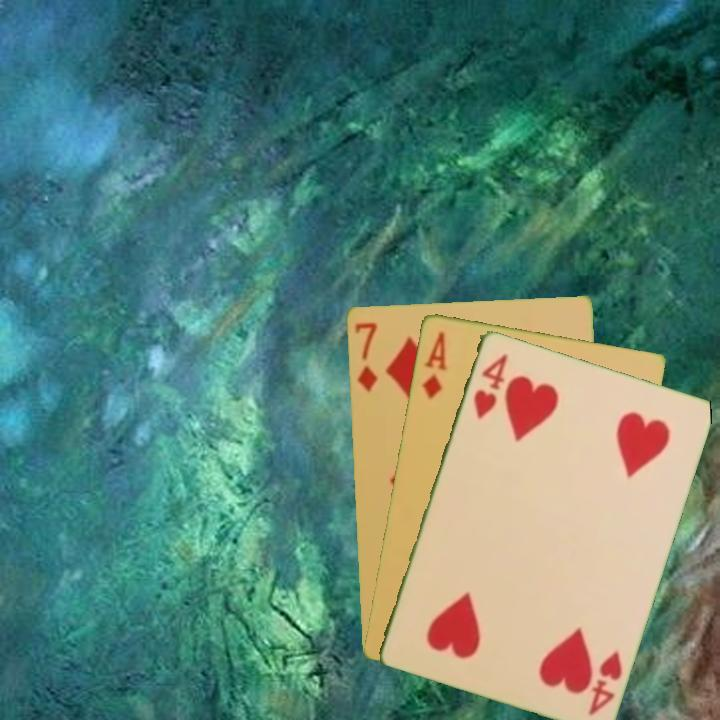4h: (469, 350, 510, 421), (584, 647, 625, 718)
7d: (350, 318, 380, 394)
Ad: (418, 327, 450, 401)
